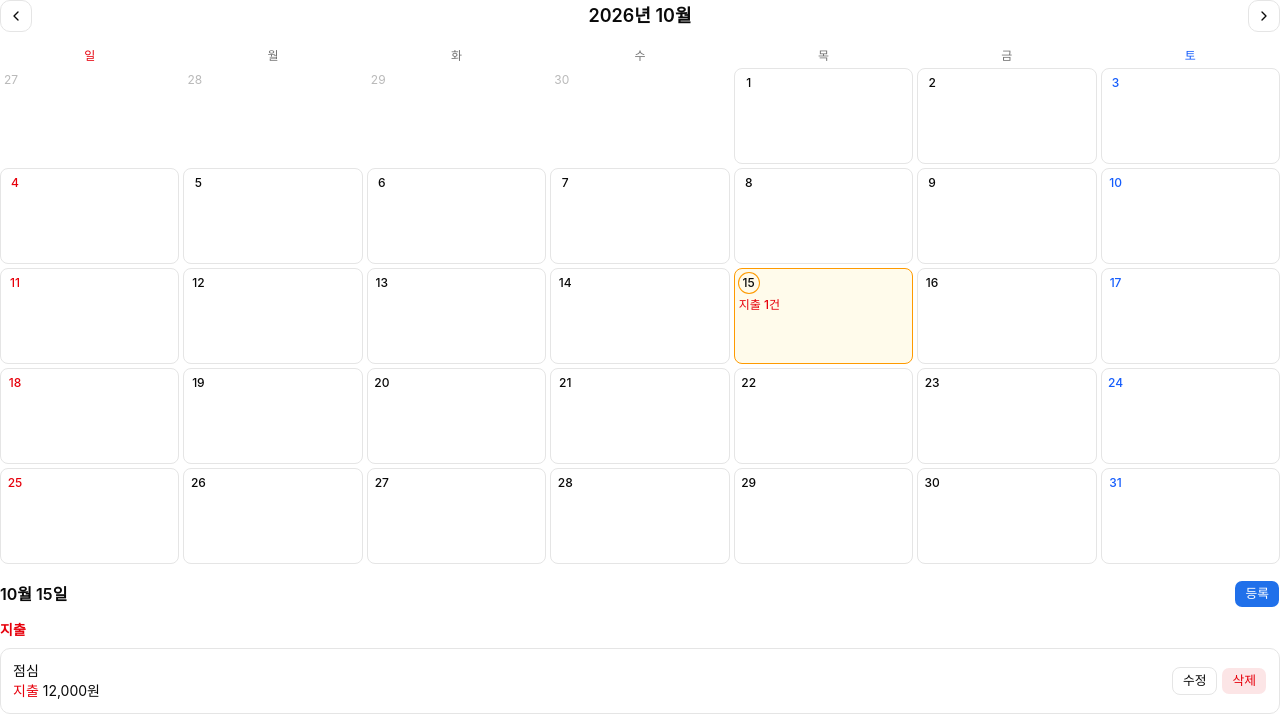
Scenario: Ledger › keeps the viewed month and selected date and shows a notice when saved to another month
Click the button named "10월 31일, 기록 없음": (1190, 516) [1101,468,1279,564]
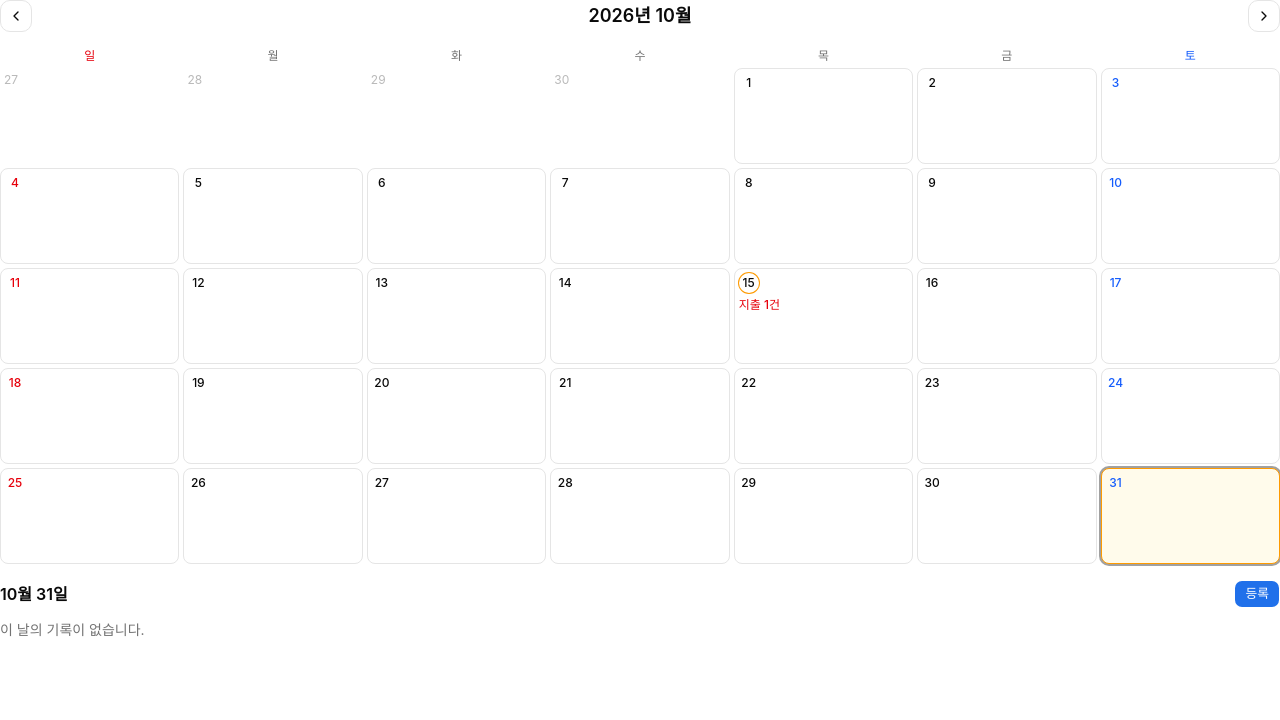
Click the button "등록": (1257, 594) [1234,580,1279,608]
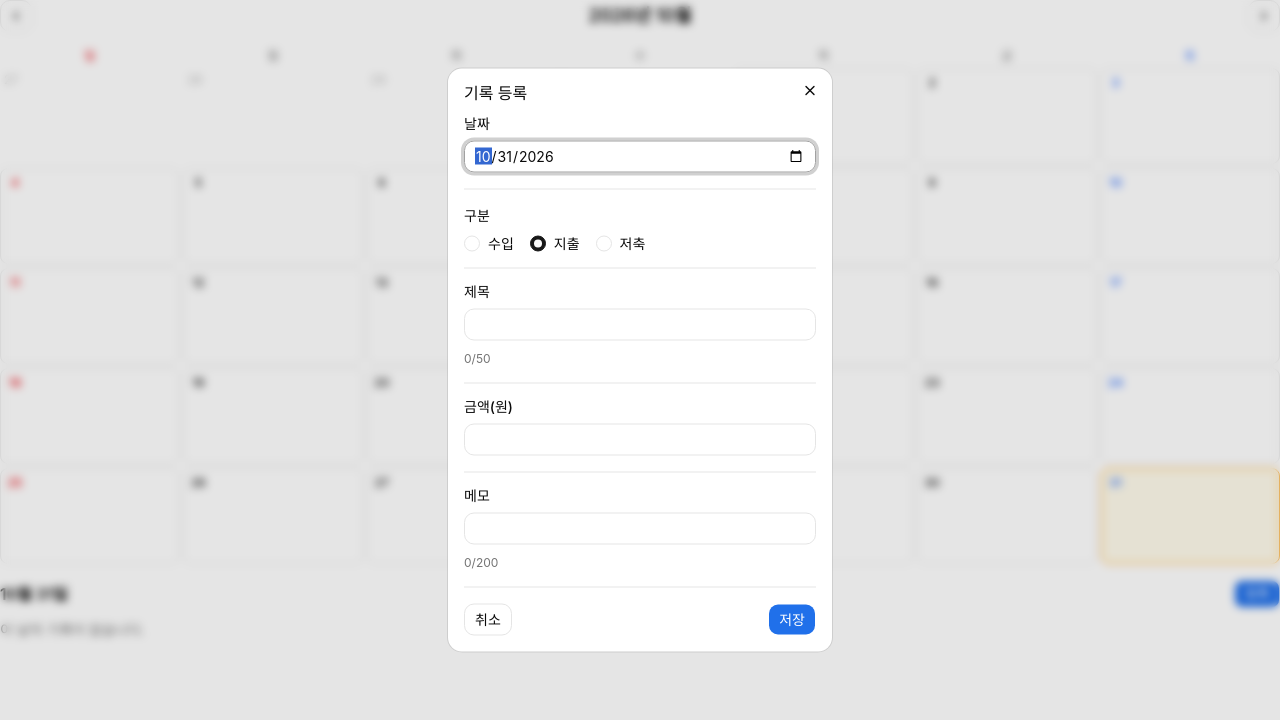
In the date field labelled "날짜": (640, 156) [464,140,816,172], type "2026-11-01"
In the field labelled "제목": (640, 324) [464,308,816,340], type "월세"
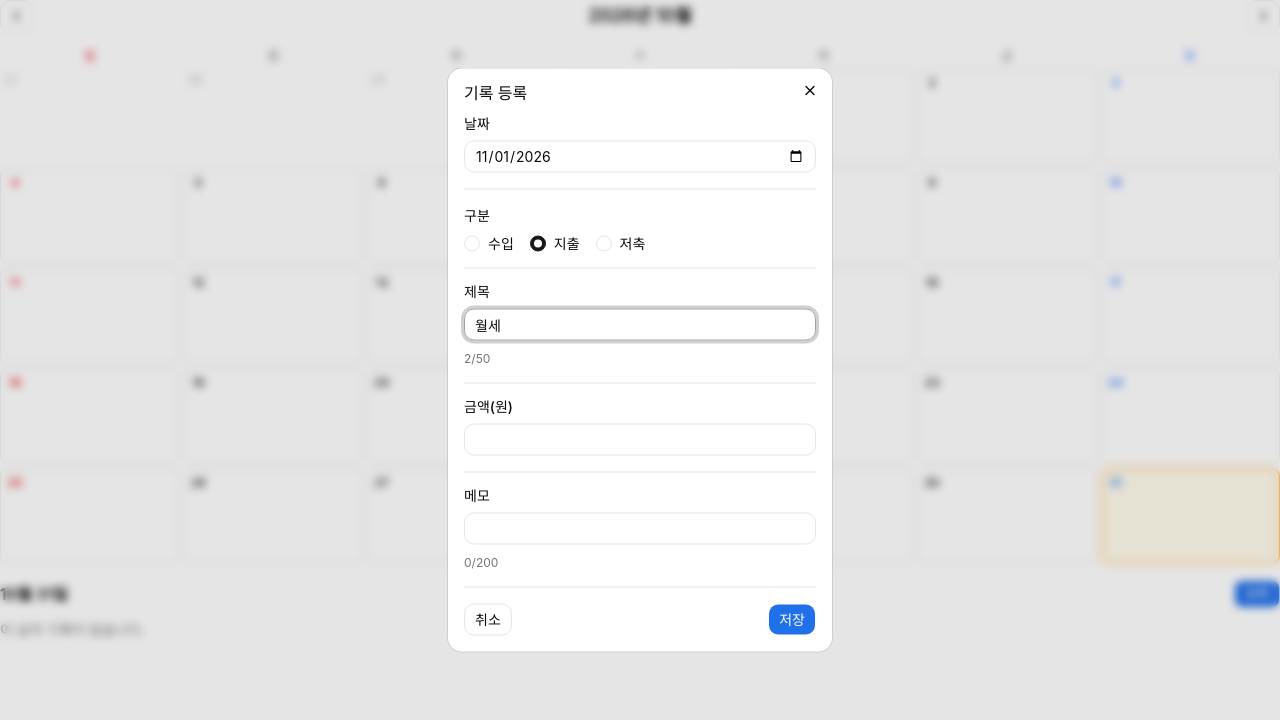
In the field labelled "금액(원)": (640, 440) [464,424,816,456], type "500000"
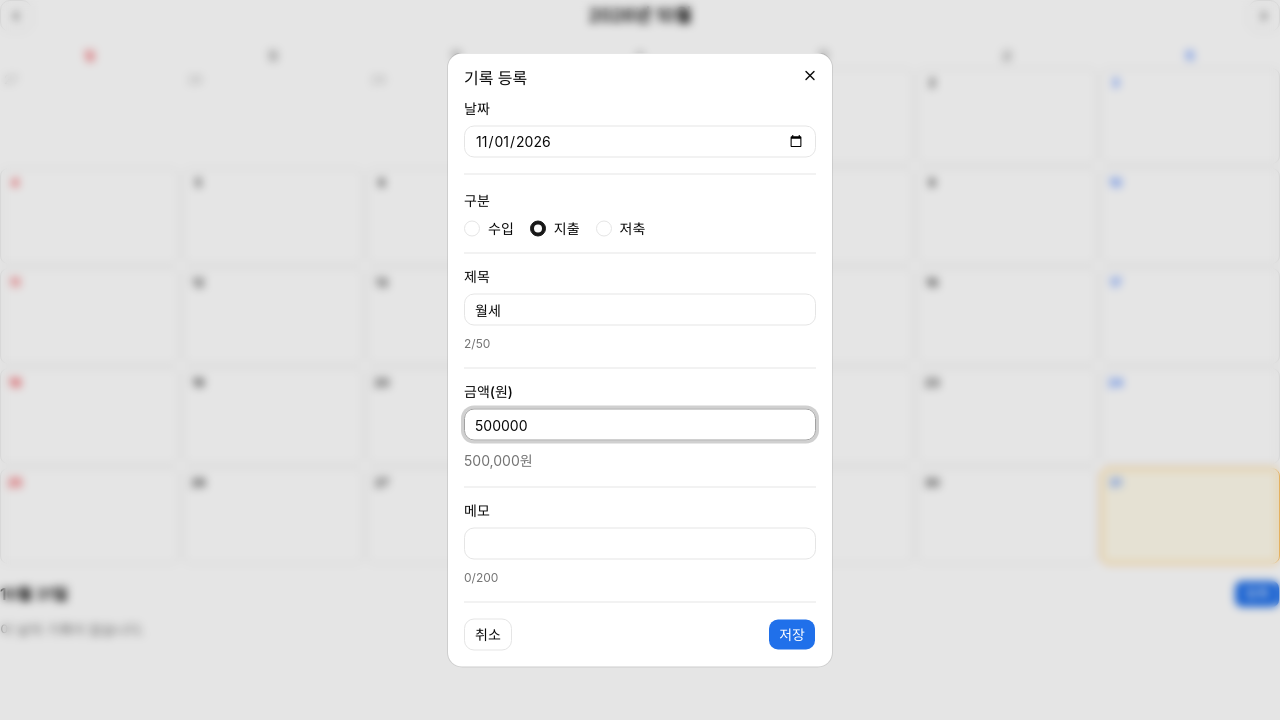
Click the button "저장": (792, 634) [768,618,816,650]
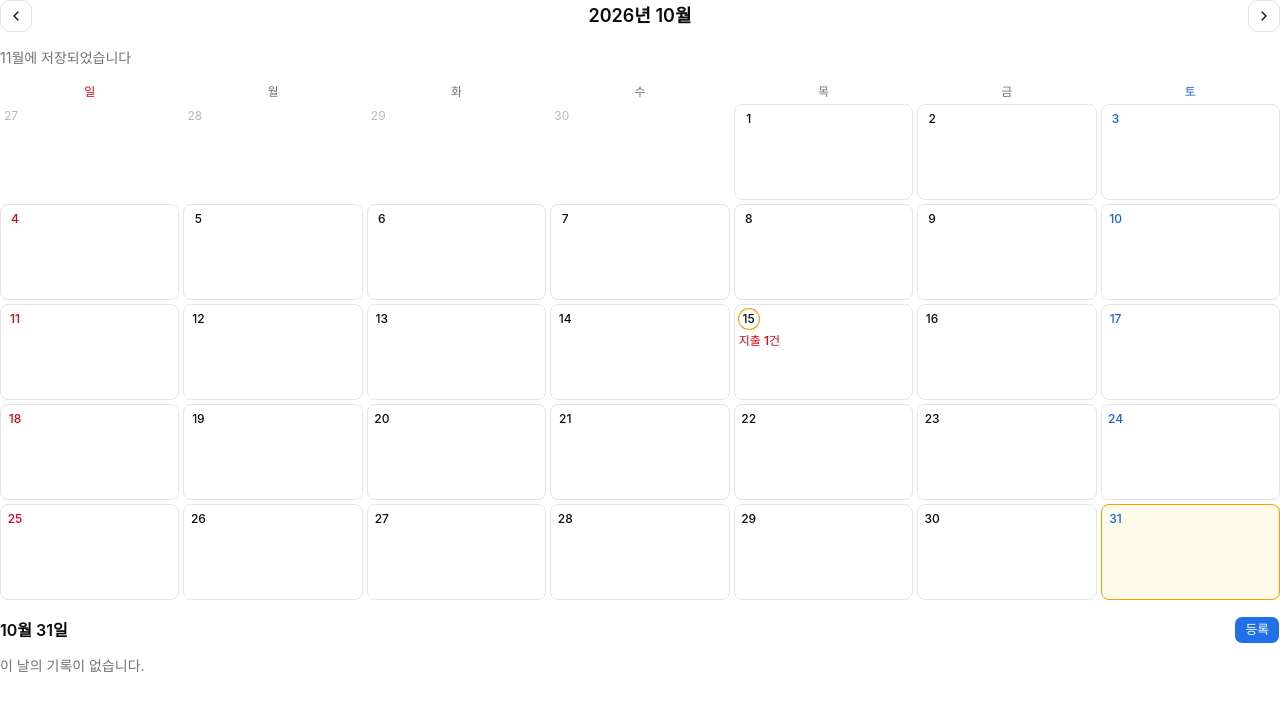
Result: the element "10월 31일" is shown at [0,616,1279,676]
Result: the dialog is gone
Result: the message reads "11월에 저장되었습니다" at [0,49,131,66]
Click the button named "다음 달": (1264, 16) [1248,0,1279,32]
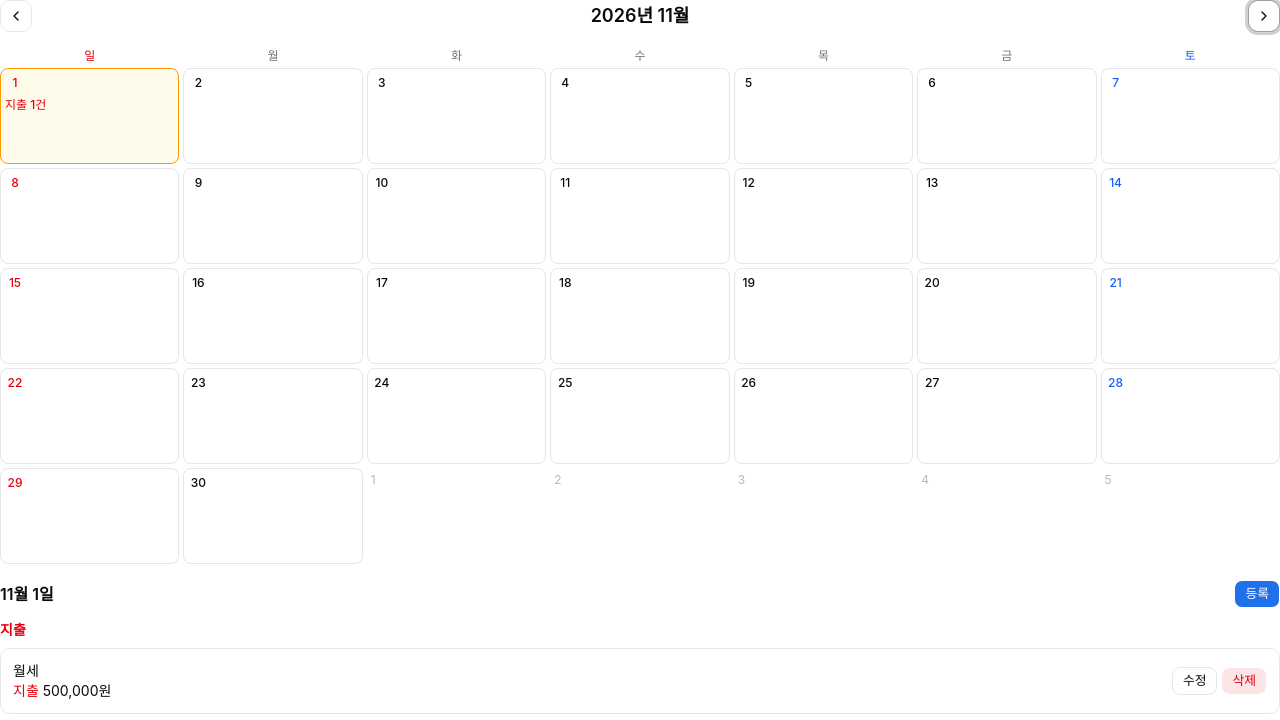
Result: the message "11월에 저장되었습니다" is gone
Result: the button with aria-label "11월 1일, 지출 1건" is shown at [0,68,179,164]
Result: the text "월세" is shown at [13,662,39,679]
